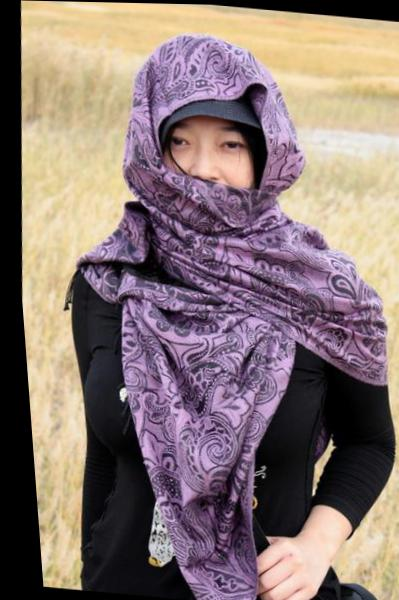WRONG: (136, 108, 276, 240)
